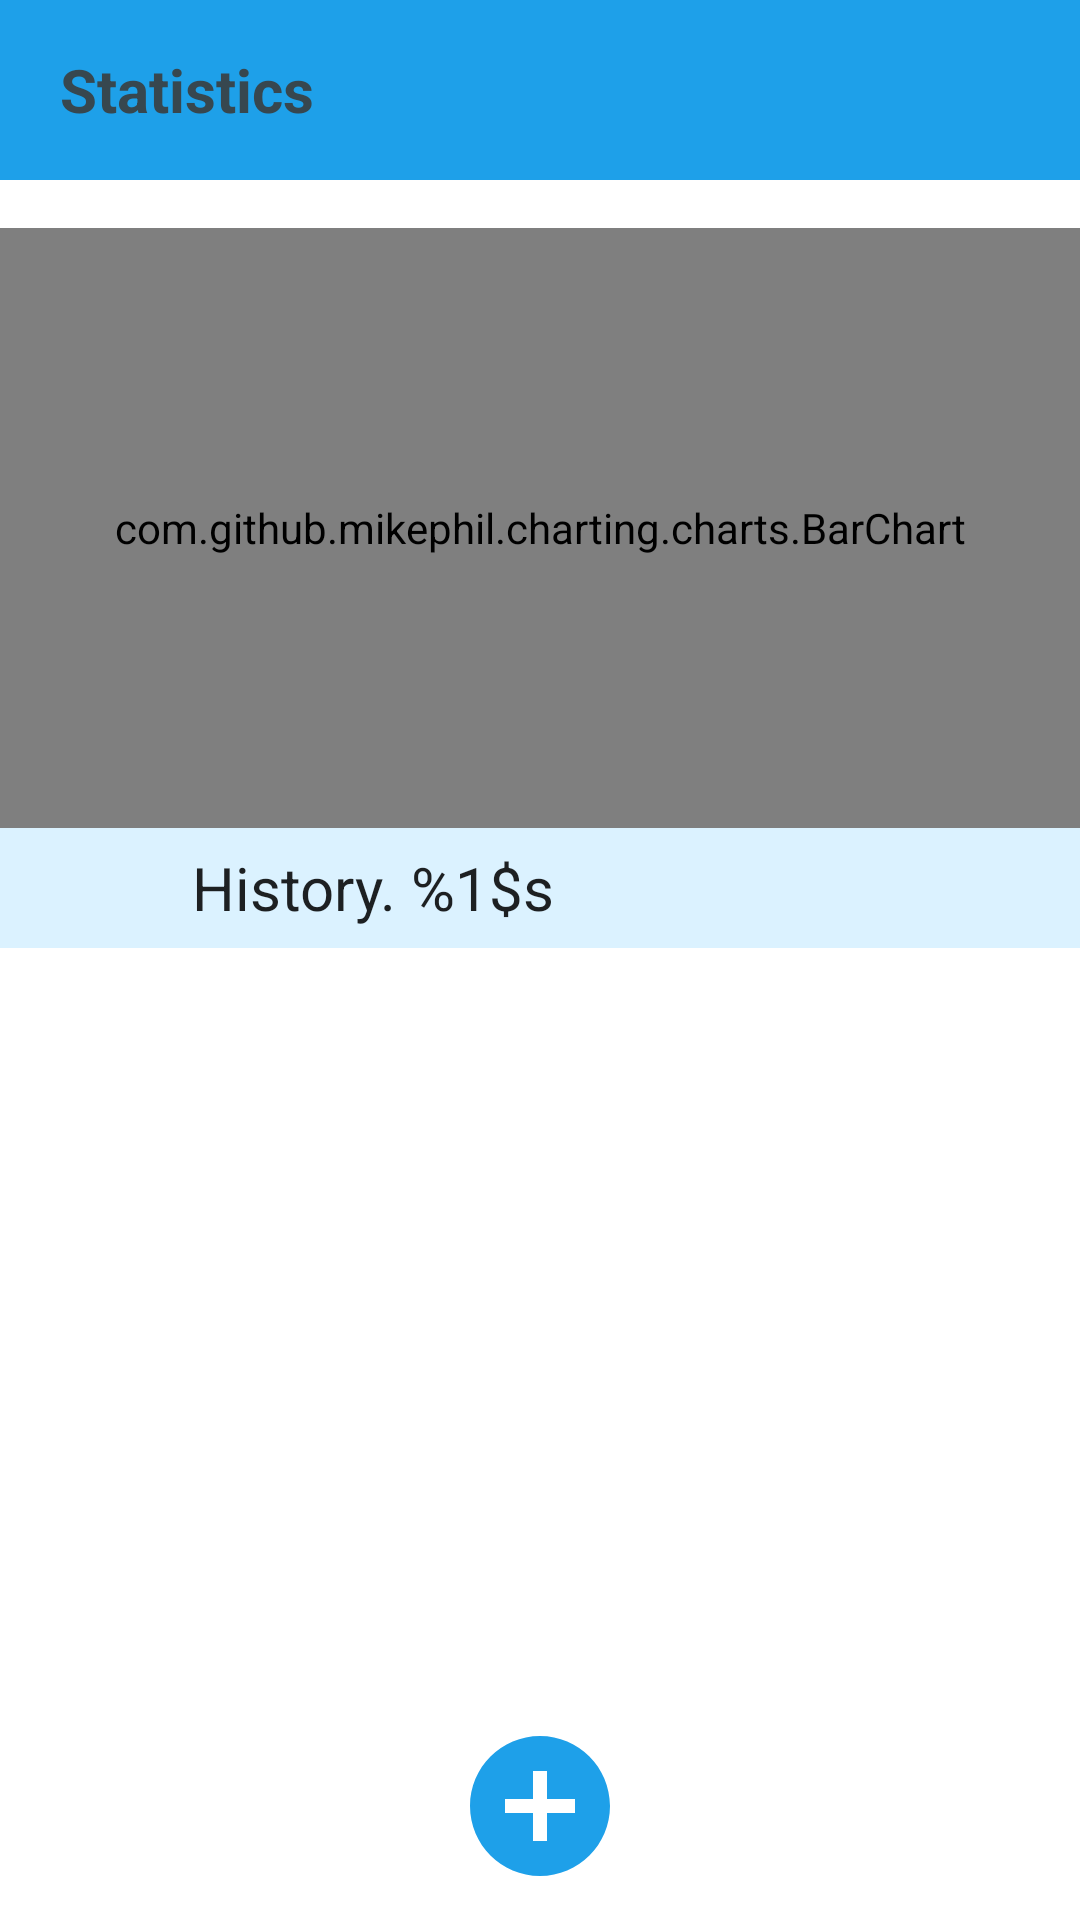

Icon click points for this 1080 × 1920 phone screenshot, format point (x, y):
Add weighing: point (540, 1806)
